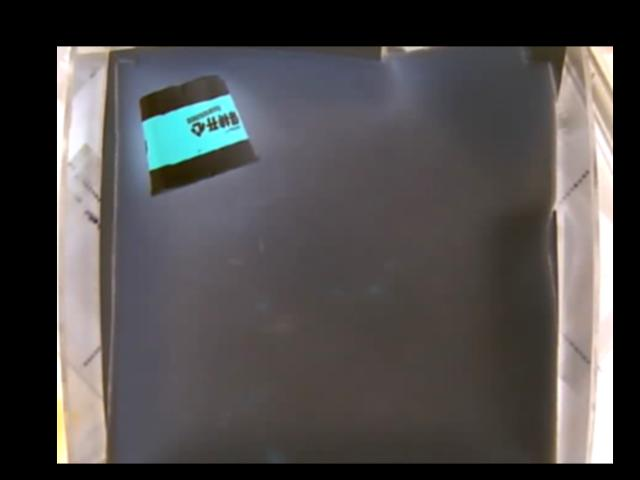Cup: (136, 73, 252, 196)
